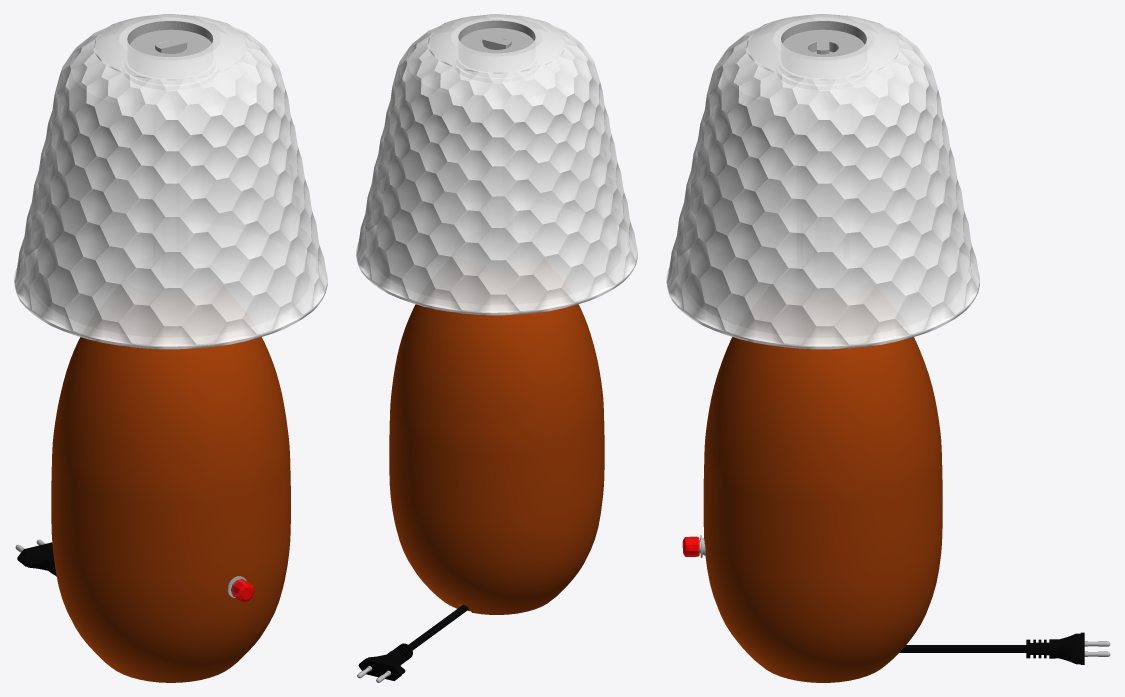
Rendered from lighting-desk-table--baccarat-baccarat-candylightlampcopper-3d.dae.
3 views of the same model, side by side, from view 1: azimuth 30°, elevation 25°; view 2: azimuth 150°, elevation 25°; view 3: azimuth 270°, elevation 25° (orthographic). The views are drawn at different scales.
Visible parts, largest first — view 1: Obj_000001, Obj_000004, Obj_000006, Obj_000002; view 2: Obj_000001, Obj_000004, Obj_000006, Obj_000002; view 3: Obj_000001, Obj_000004, Obj_000006, Obj_000002.
Boxes of the visible parts, x1,y1,x2,y2 form: Obj_000001: [14, 14, 327, 349]; Obj_000004: [51, 337, 290, 682]; Obj_000006: [15, 21, 268, 597]; Obj_000002: [17, 542, 56, 576]; Obj_000001: [356, 14, 637, 315]; Obj_000004: [389, 304, 604, 614]; Obj_000006: [357, 20, 586, 682]; Obj_000002: [358, 604, 468, 681]; Obj_000001: [666, 14, 979, 349]; Obj_000004: [703, 337, 942, 682]; Obj_000006: [699, 21, 1110, 656]; Obj_000002: [899, 632, 1084, 664].
Size of the model in its own units: 231 by 504 by 328.
